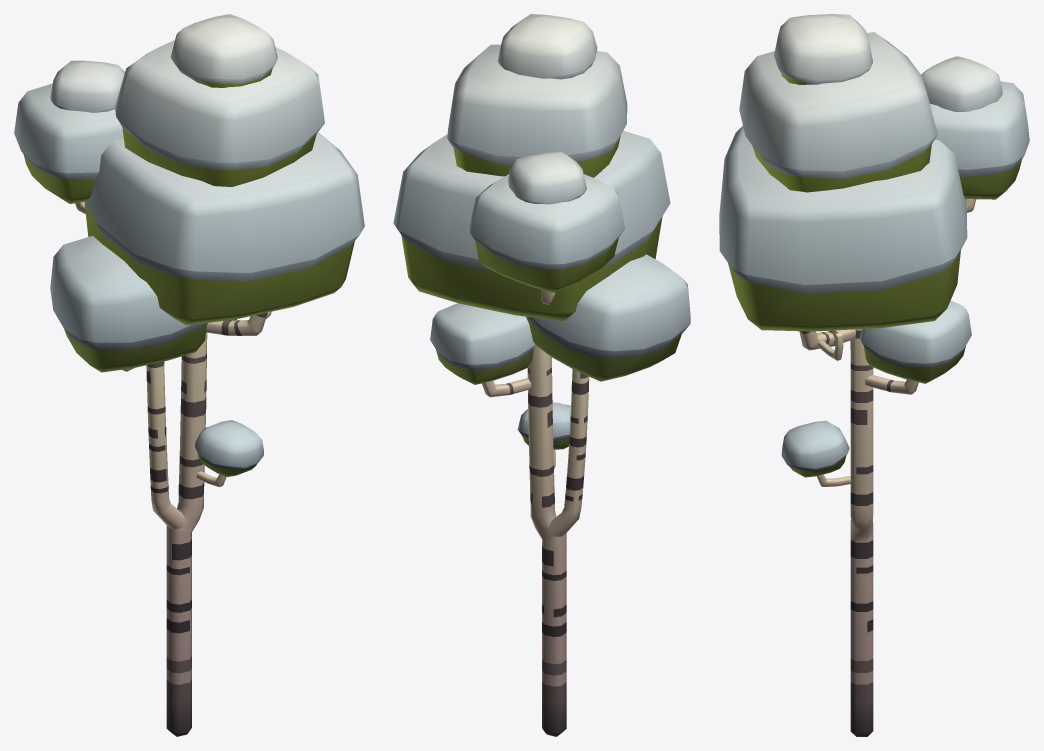
File: birch_tree_col1_01_snow.fbx
The picture shows the model from 3 angles, left to right: view 1: azimuth 30°, elevation 25°; view 2: azimuth 150°, elevation 25°; view 3: azimuth 270°, elevation 25°; orthographic projection. The views are drawn at different scales.
Visible parts, largest first — view 1: birch_tree_col1_01_snow; view 2: birch_tree_col1_01_snow; view 3: birch_tree_col1_01_snow.
Part boxes in pixels (bbox=[...]): birch_tree_col1_01_snow: bbox=[14, 14, 364, 736]; birch_tree_col1_01_snow: bbox=[393, 14, 690, 736]; birch_tree_col1_01_snow: bbox=[719, 14, 1029, 736].
Bounding box in the file's own units: 492 × 1301 × 506.
1 material, 1 textured.
